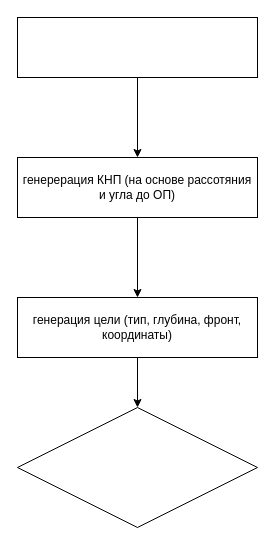
Image size: 275x545. Some labels were removed from this diagram. The shapes that lost their labels are listed below. From the top down, each one's centre as x and y in pixels, then its label:
At point 137,47: "генерация ОП".
At point 137,467: "данные сгенерированы правильно?".
